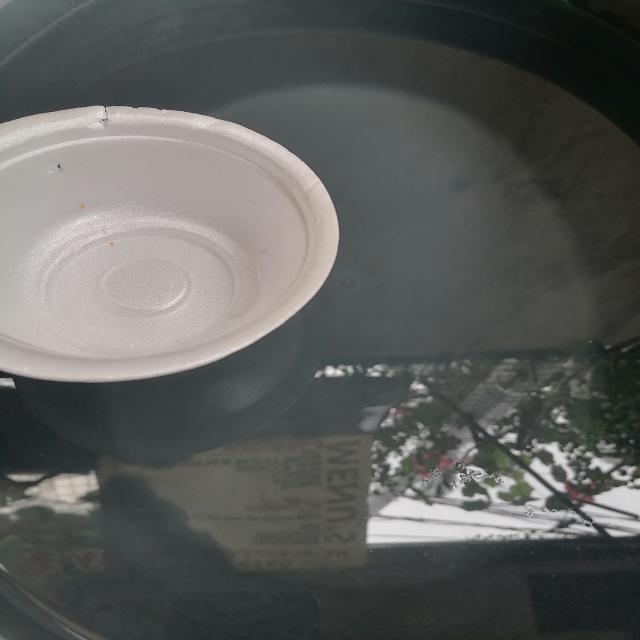Styrofoam Container: (0, 106, 339, 382)
